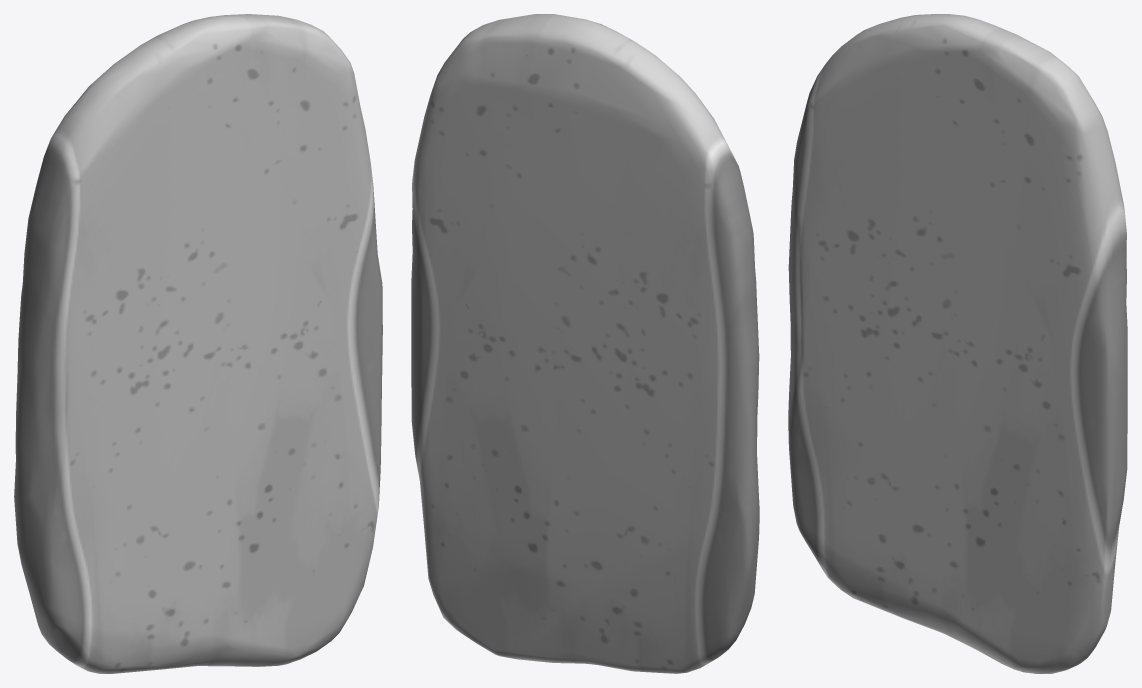
File: SM_UI_BGCredits.fbx
3 views of the same model, side by side, from view 1: azimuth 30°, elevation 25°; view 2: azimuth 150°, elevation 25°; view 3: azimuth 330°, elevation 25° (orthographic). The views are drawn at different scales.
Visible parts, largest first — view 1: SM_UI_BGCredits_Txt; view 2: SM_UI_BGCredits_Txt; view 3: SM_UI_BGCredits_Txt.
Boxes of the visible parts, box(x1,y1,x2,y2) form: SM_UI_BGCredits_Txt: box(14, 14, 382, 673); SM_UI_BGCredits_Txt: box(411, 14, 759, 673); SM_UI_BGCredits_Txt: box(788, 14, 1127, 673).
Size of the model in its own units: 30.54 by 54.84 by 4.71.
